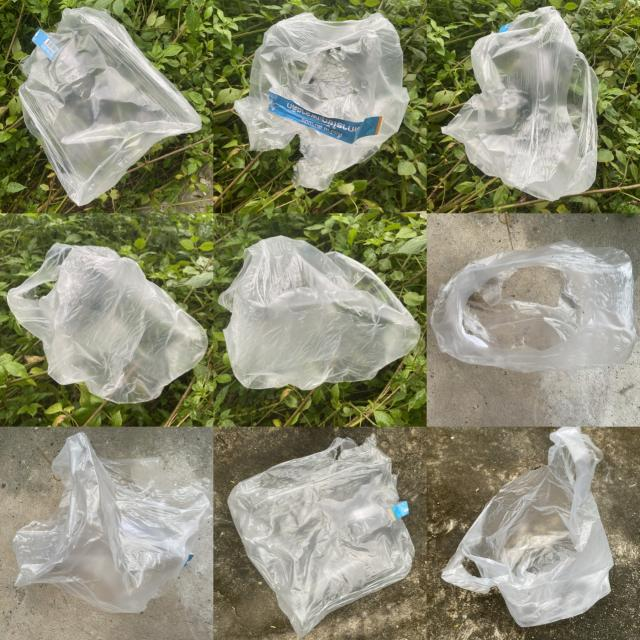Single-layer Plastic: (228, 435, 414, 636), (19, 8, 201, 206), (14, 432, 212, 612), (442, 428, 614, 627), (8, 244, 208, 404), (235, 12, 409, 190), (219, 236, 420, 390), (442, 6, 599, 201), (430, 241, 636, 372)
